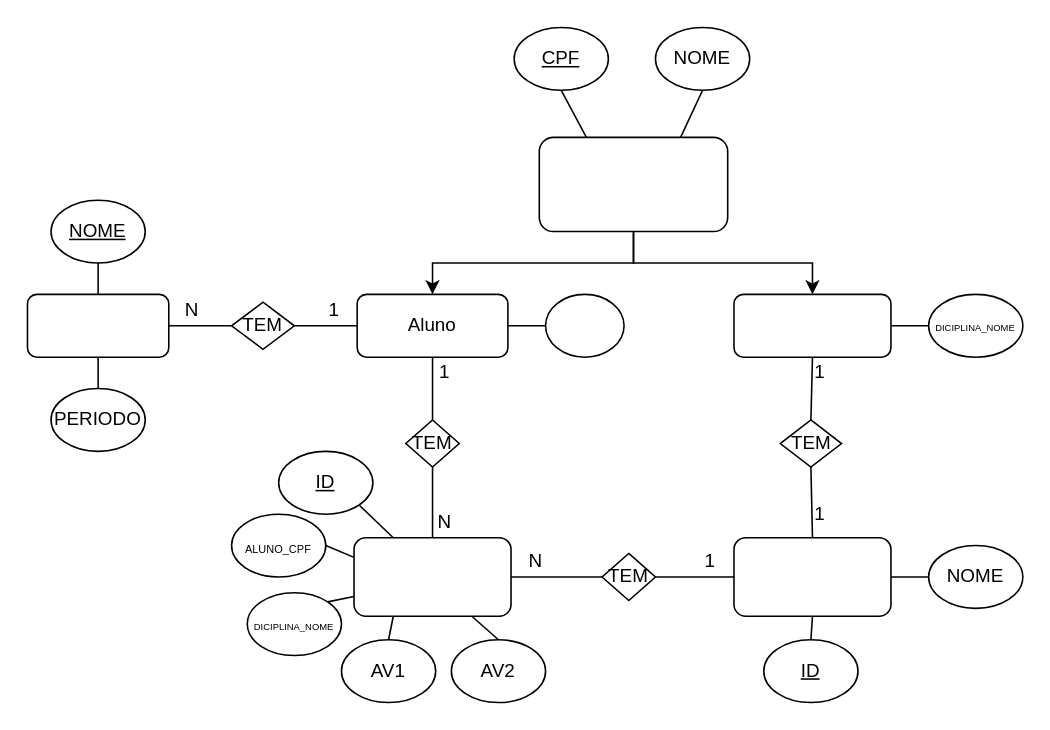
Some shapes in this 1050 by 730 pixel diagram are drawn without their labels. The shapes that lost their labels are listed below. From the top down, each one's centre as x and y in pixels, then its label:
At point 633,184: "Pessoa".
At point 97,325: "Turma".
At point 584,325: "TURMA_NOME".
At point 811,325: "Professor".
At point 431,576: "notas".
At point 811,576: "Disciplina".
